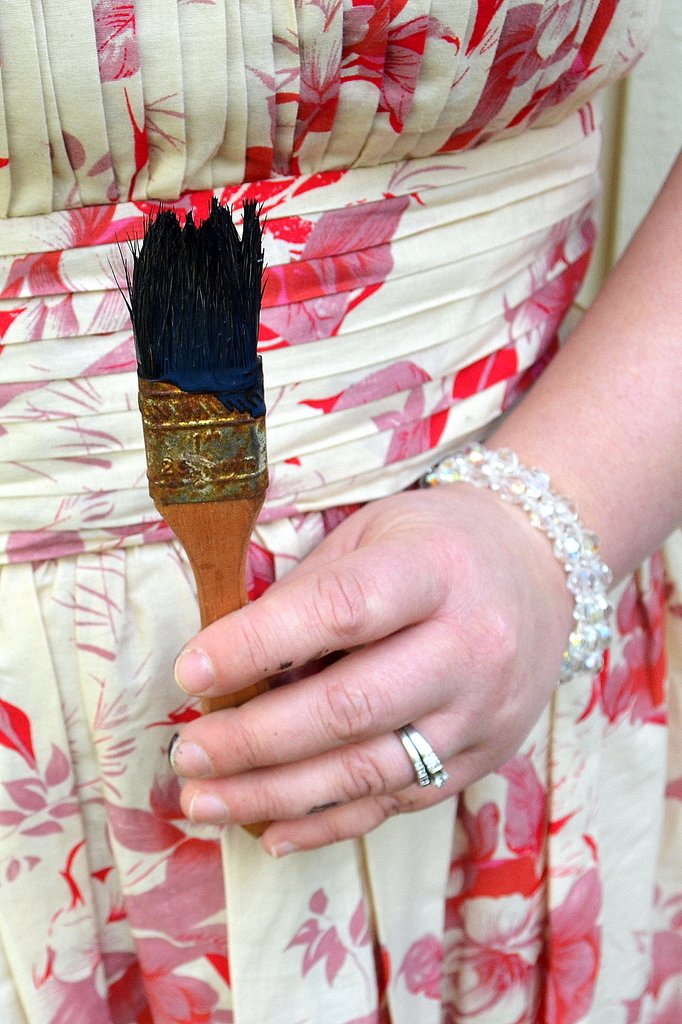Human_hand: (166, 492, 581, 846)
